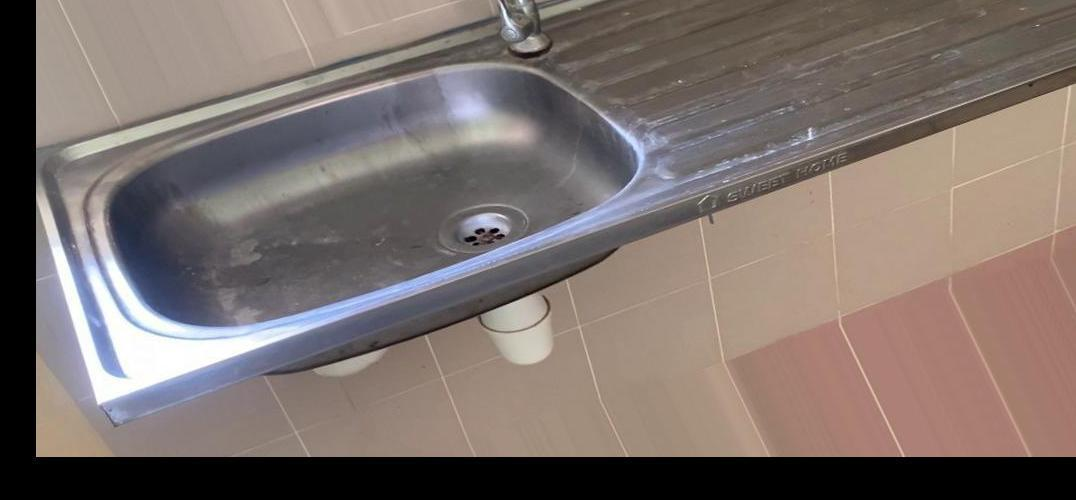Lavaplatos: (70, 0, 706, 430)
